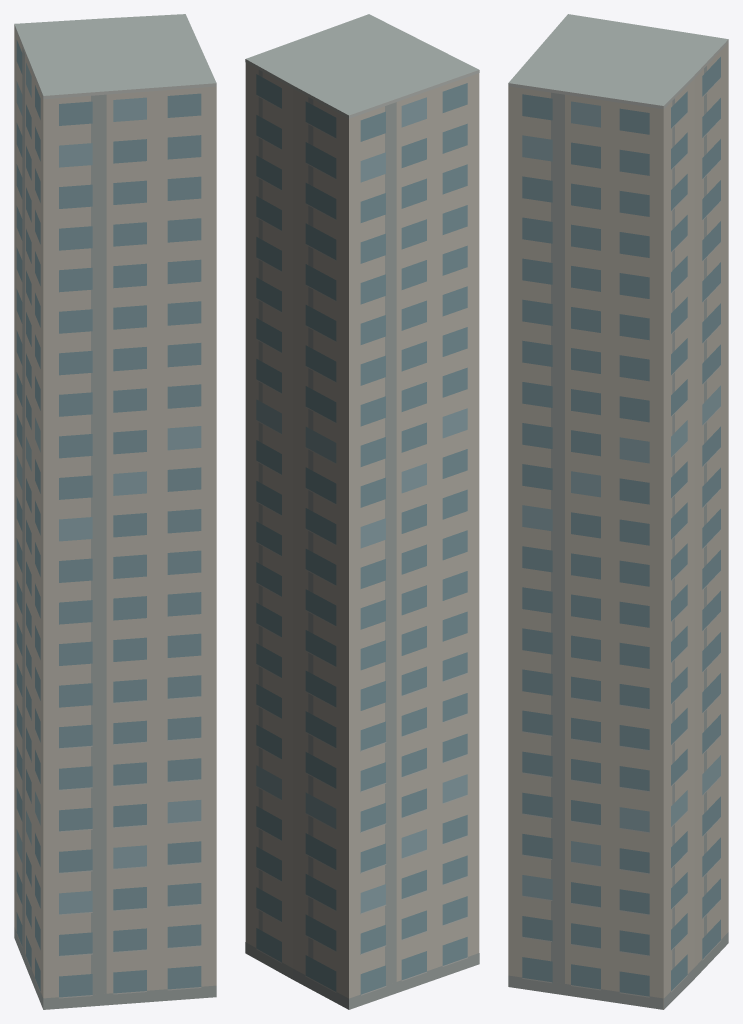
File: survey-upis-32902486.glb
The picture shows the model from 3 angles, left to right: view 1: azimuth 30°, elevation 25°; view 2: azimuth 150°, elevation 25°; view 3: azimuth 270°, elevation 25°; orthographic projection. The views are drawn at different scales.
Visible parts, largest first — view 1: survey-upis-32902486.tmp; view 2: survey-upis-32902486.tmp; view 3: survey-upis-32902486.tmp.
Part boxes in pixels (box(x1,y1,x2,y2)): survey-upis-32902486.tmp: box(14, 14, 216, 1009); survey-upis-32902486.tmp: box(245, 14, 479, 1009); survey-upis-32902486.tmp: box(508, 14, 728, 1009).
Size of the model in its own units: 14.66 by 67.1 by 14.84.
